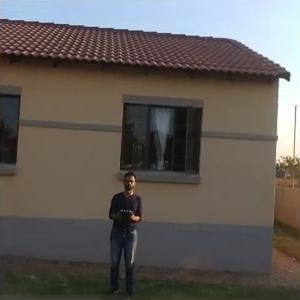follow: (102, 169, 144, 297)
